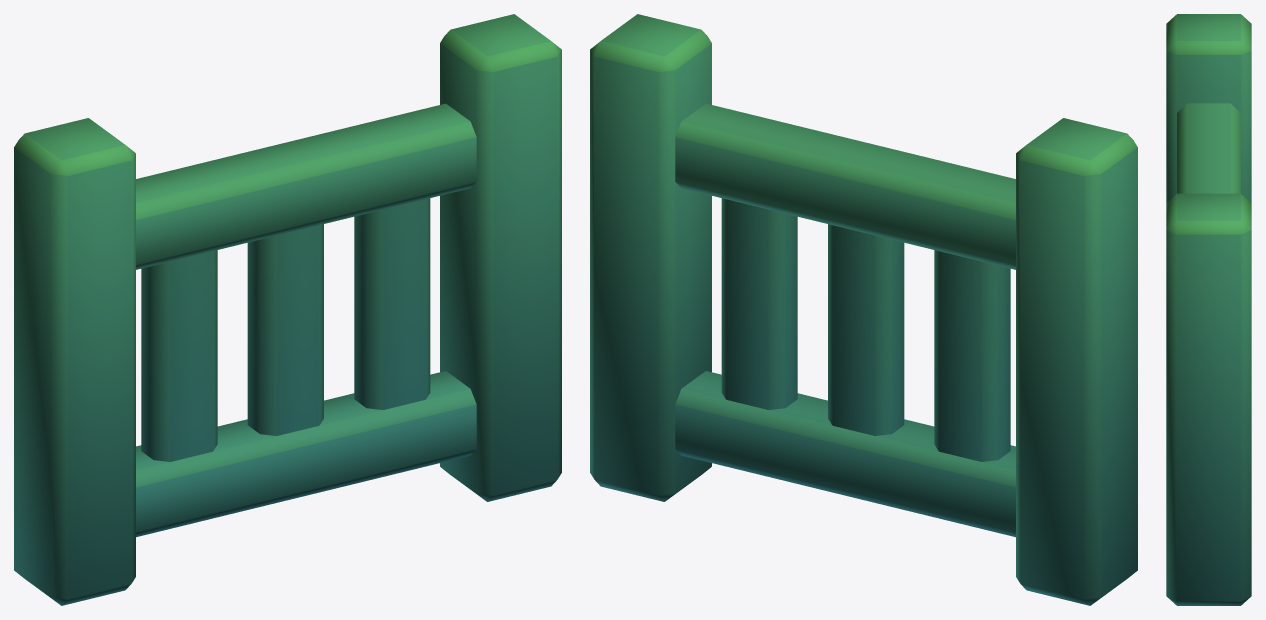
File: fence_straight_long.glb
3 renders of one model, left to right at view 1: azimuth 30°, elevation 25°; view 2: azimuth 150°, elevation 25°; view 3: azimuth 270°, elevation 25°, orthographic. The views are drawn at different scales.
Visible parts, largest first — view 1: fence_straight_long; view 2: fence_straight_long; view 3: fence_straight_long.
Part boxes in pixels (x1,y1,x2,y2): fence_straight_long: (14,14,561,605); fence_straight_long: (590,14,1137,605); fence_straight_long: (1166,14,1251,605).
Size of the model in its own units: 2.4 by 2 by 0.4.
1 material, 1 textured.
